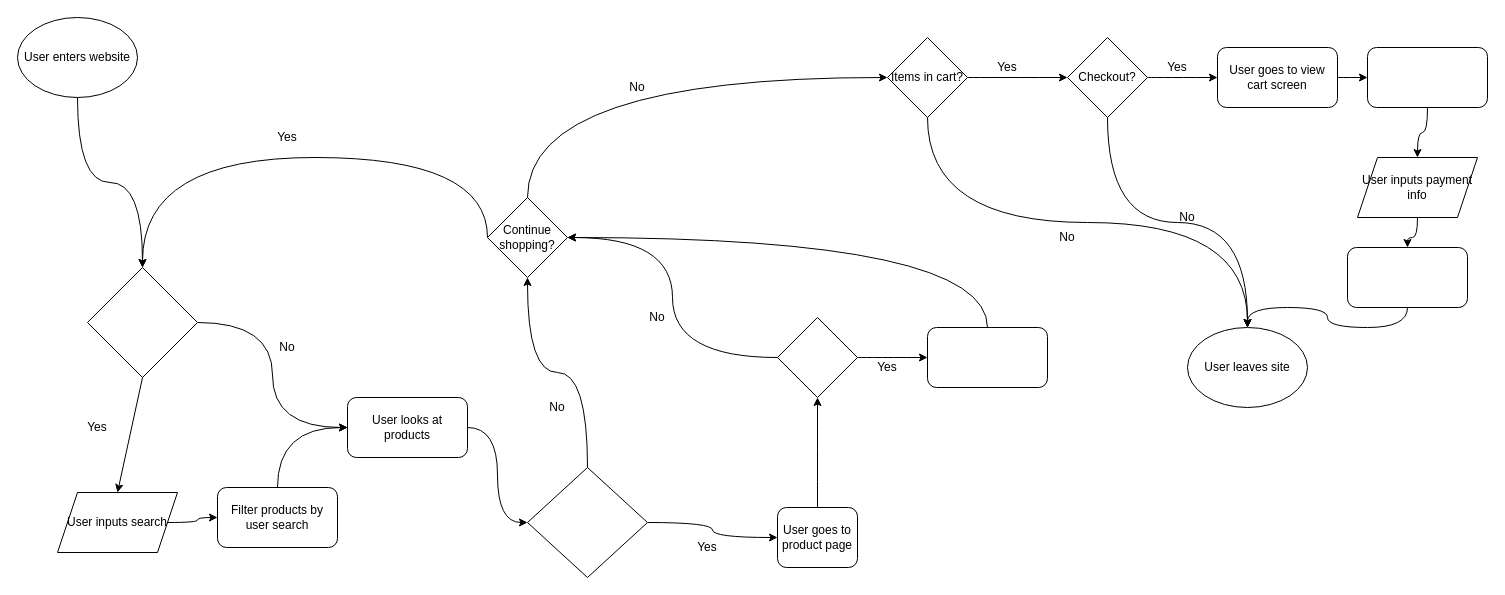
Some shapes in this 1505 by 595 pixel diagram are drawn without their labels. Here are the shapes that lost their labels. From the top down, the centre of each, then its label:
At [1427,77]: "User goes to view payment screen".
At [1407,277]: "User goes to confirmation screen & email is sent to user".
At [142,322]: "User searches for specific product".
At [817,357]: "Add item to cart?".
At [987,357]: "Cart confirmation".
At [587,522]: "Look at specific item?".
